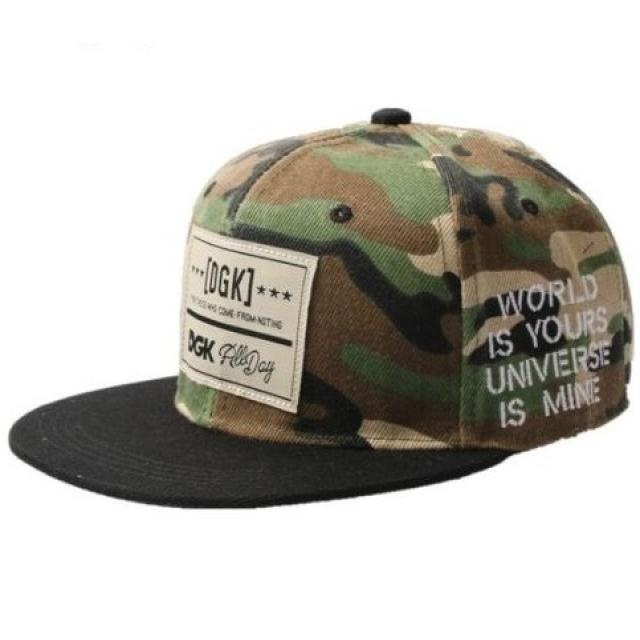no_helmet: (4, 97, 637, 516)
